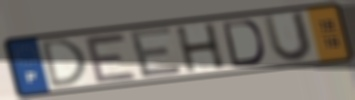D: (40, 36, 90, 91), (220, 18, 267, 69)
E: (127, 25, 186, 81), (82, 32, 141, 85)
H: (172, 21, 228, 74)
U: (261, 10, 316, 65)
